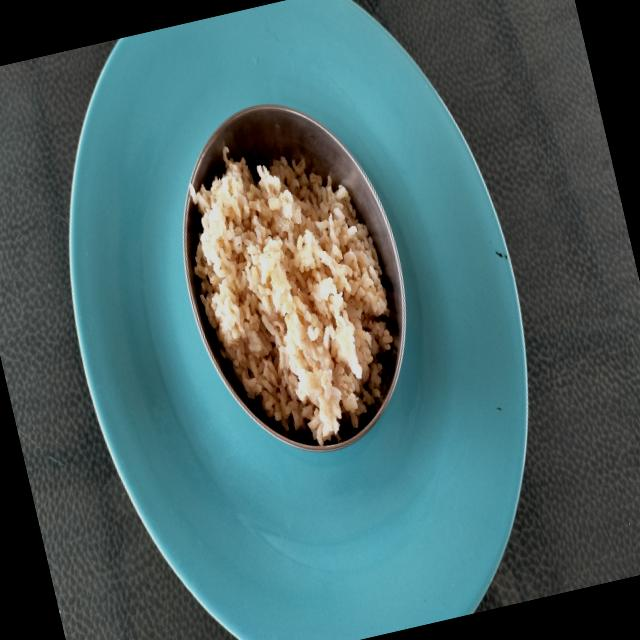brown-rice: (191, 148, 392, 445)
